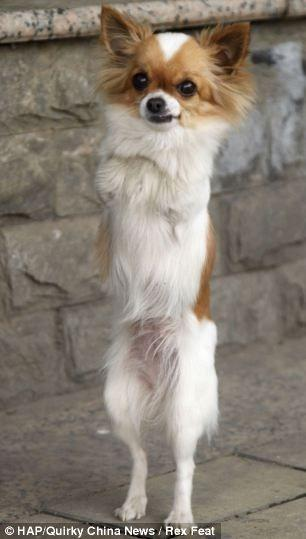adult_dog: (89, 3, 257, 527)
